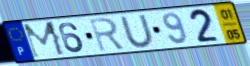2: (189, 7, 225, 46)
6: (57, 21, 86, 54)
9: (161, 11, 189, 45)
M: (21, 20, 68, 61)
R: (87, 16, 127, 53)
U: (118, 13, 157, 49)
